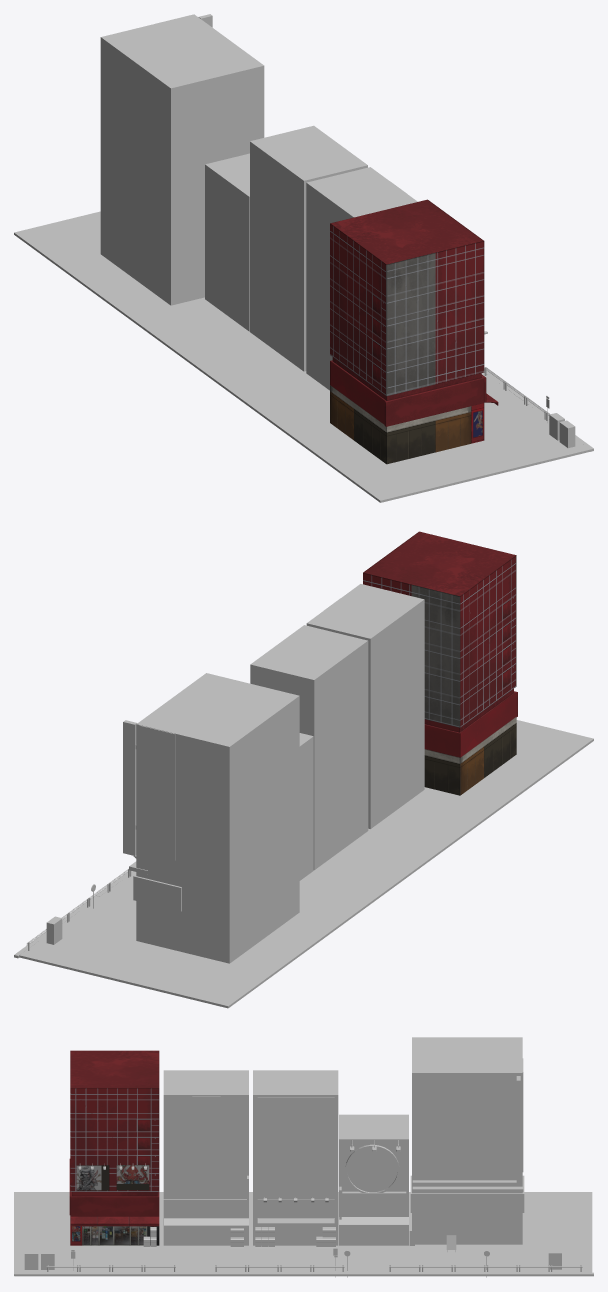
The model's file is Japanese building01.fbx.
3 views of the same model, one above another, from view 1: azimuth 30°, elevation 25°; view 2: azimuth 150°, elevation 25°; view 3: azimuth 270°, elevation 25° (orthographic). The views are drawn at different scales.
Visible parts, largest first — view 1: Cube.051, Cube.019, Cube.037, Cube.013, Cube, Cube.097, Cube.098, Cube.099, Cube.094, Cube.100, Cube.029; view 2: Cube.051, Cube.019, Cube.037, Cube.013, Cube.100, Cube.098, Cube.103, Cube.099, Cube.062, Cube.097, Cube, Cube.052 (+1 smaller); view 3: Cube.019, Cube.051, Cube.013, Cube.055, Cube.036, Cube.037, Cube, Cube.103, Cube.094, Cube.022, Cube.095, Cube.100 (+18 smaller).
Part boxes in pixels (x1,y1,x2,y2): Cube.051: (100,14,264,305); Cube.019: (330,199,484,464); Cube.037: (250,125,367,371); Cube.013: (306,167,417,390); Cube: (205,153,249,331); Cube.097: (288,424,487,502); Cube.098: (197,349,330,435); Cube.099: (106,289,272,368); Cube.094: (451,383,593,476); Cube.100: (14,211,148,301); Cube.029: (384,378,483,426); Cube.051: (136,673,299,963); Cube.019: (363,531,516,795); Cube.037: (250,625,368,870); Cube.013: (306,584,424,828); Cube.100: (121,929,319,1008); Cube.098: (337,787,502,873); Cube.103: (19,888,166,982); Cube.099: (277,854,411,940); Cube.062: (139,725,175,860); Cube.097: (462,720,593,807); Cube: (299,733,313,880); Cube.052: (123,720,137,855); Cube.019: (70,1050,159,1245); Cube.051: (412,1037,522,1244); Cube.013: (163,1070,248,1245); Cube.055: (423,1075,508,1175); Cube.036: (257,1097,334,1196); Cube.037: (253,1070,338,1245); Cube: (339,1114,408,1245); Cube.103: (447,1232,592,1272); Cube.094: (14,1233,157,1275); Cube.022: (158,1232,302,1272); Cube.095: (302,1232,446,1272); Cube.100: (522,1192,592,1233).
Bounding box in the file's own units: 667 × 678 × 1986.
